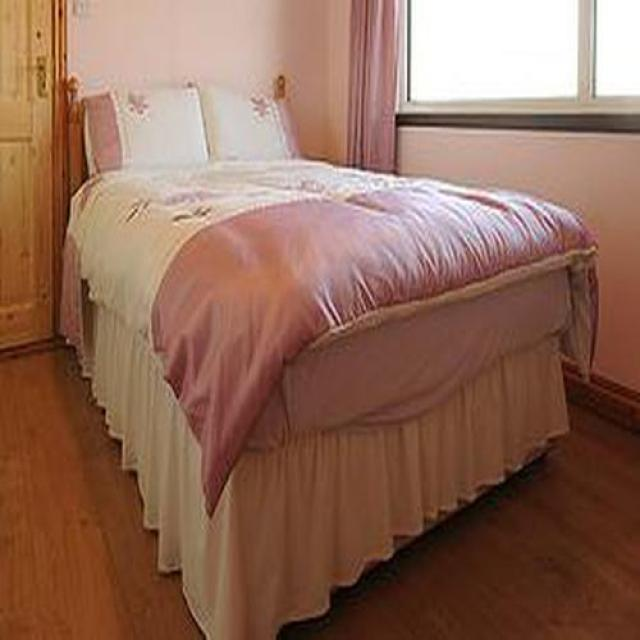bed: (56, 83, 599, 640)
